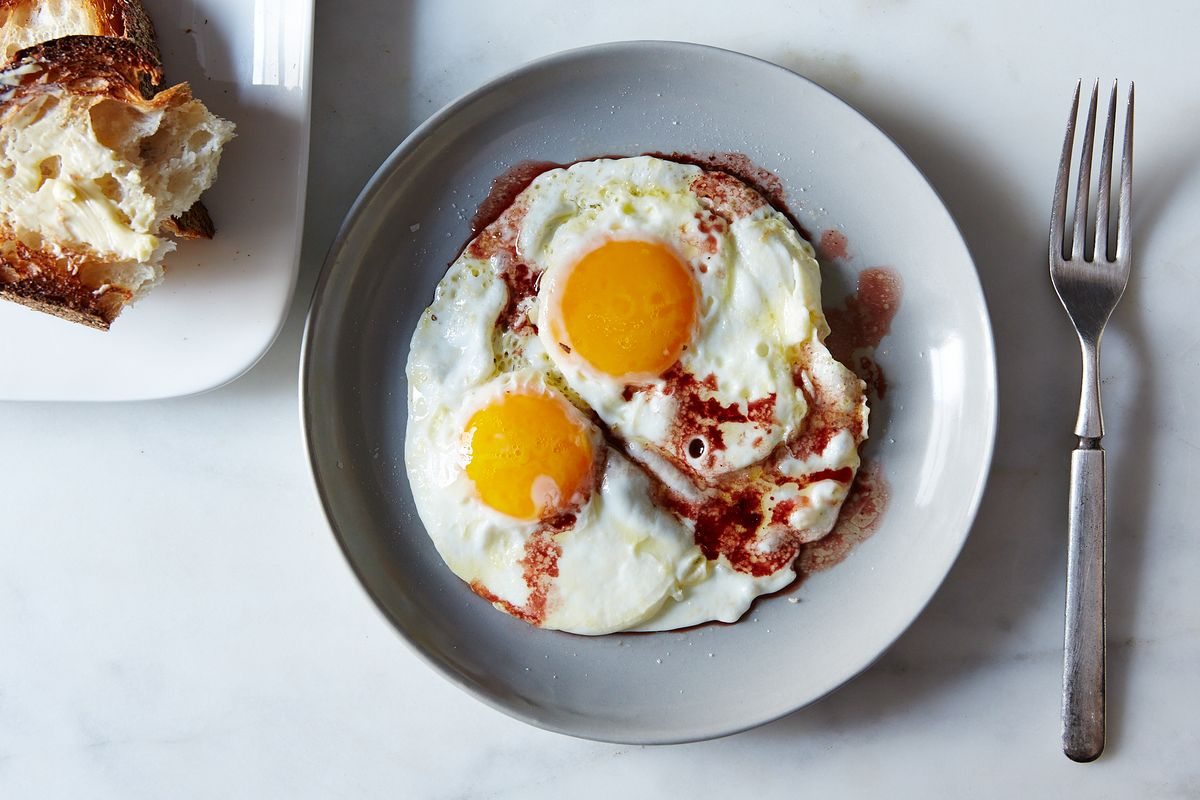fried egg: (409, 323, 682, 629), (541, 158, 813, 440)
slice of bread: (1, 50, 255, 305)
